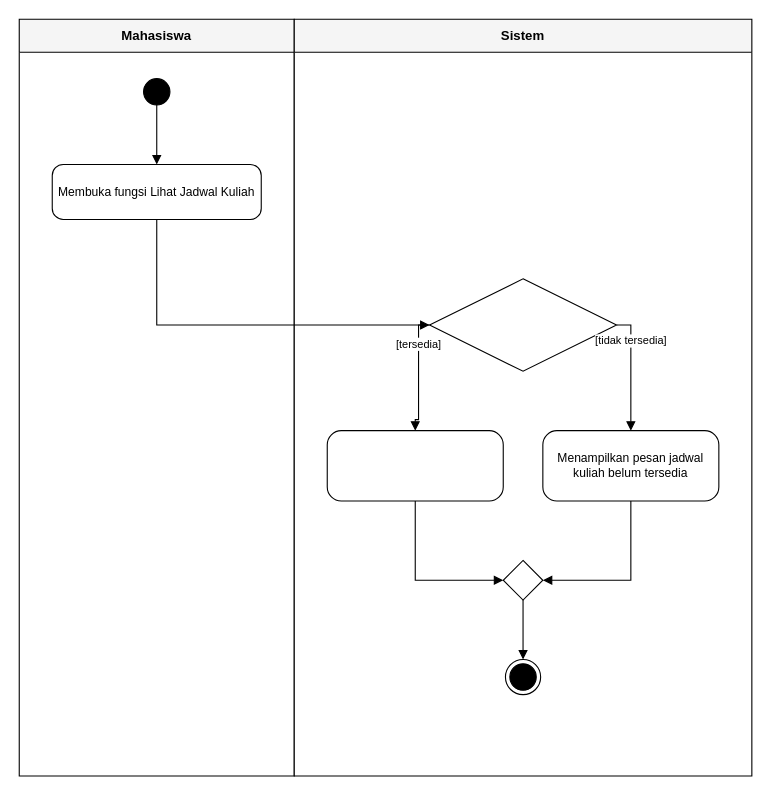
Image size: 771x795. Some labels were removed from this diagram. The centre of each missing label's shape, as x and y in pixels:
"Jadwal kuliah tersedia?" goes at (522,324).
"Menampilkan daftar jadwal kuliah beserta jadwal per mata kuliah" goes at (414,465).
